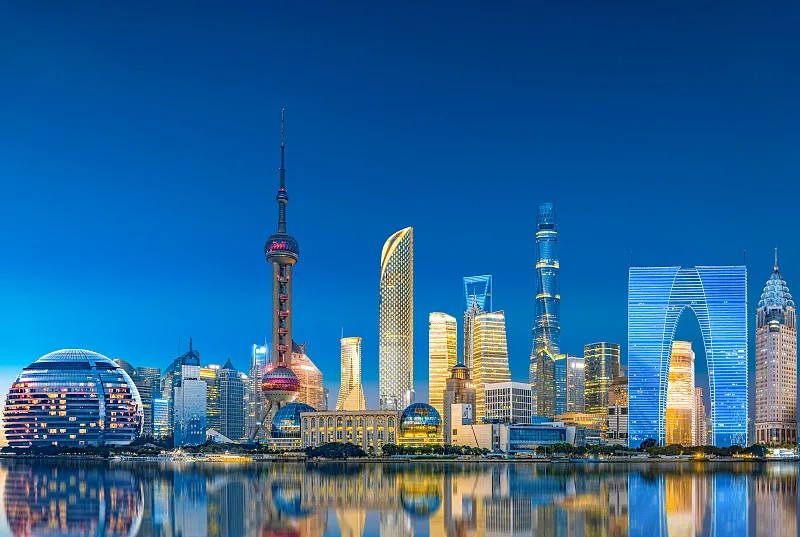Oriental: (249, 107, 300, 440)
